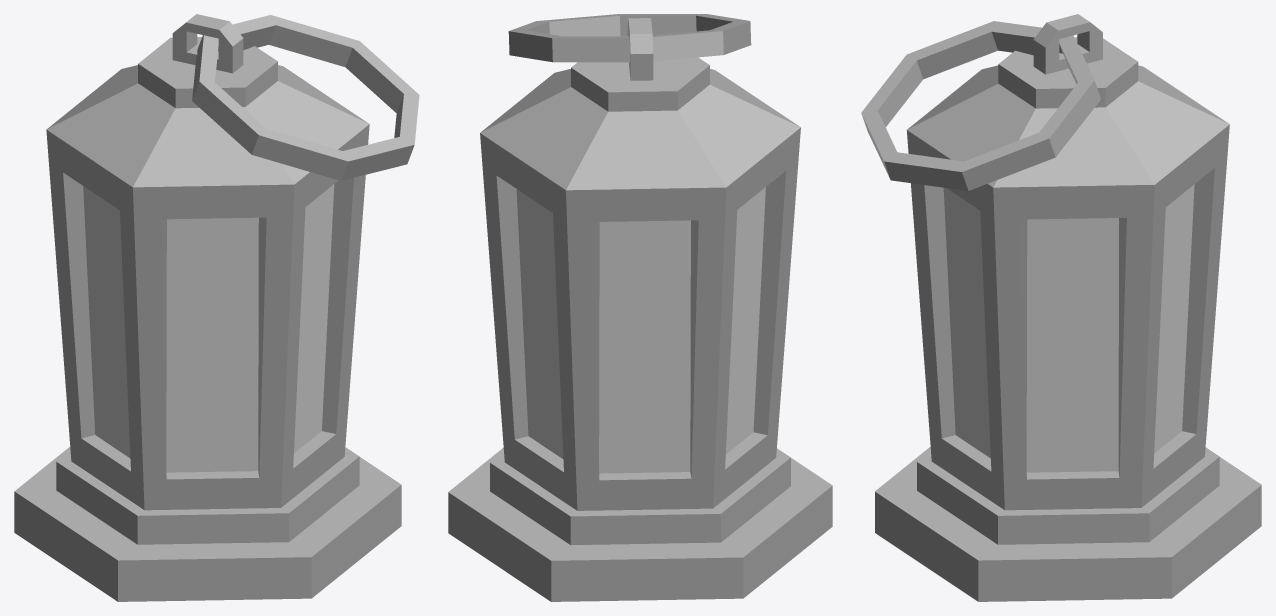
The model's file is lantern.fbx.
The picture shows the model from 3 angles, left to right: view 1: azimuth 30°, elevation 25°; view 2: azimuth 150°, elevation 25°; view 3: azimuth 270°, elevation 25°; orthographic projection.
Parts seen in each view (by area): view 1: lantern; view 2: lantern; view 3: lantern.
Part boxes in pixels (left/top/right/bottom): lantern: left=14, top=14, right=419, bottom=601; lantern: left=448, top=14, right=832, bottom=601; lantern: left=861, top=14, right=1261, bottom=601.
Size of the model in its own units: 0.1824 by 0.2882 by 0.2063.
